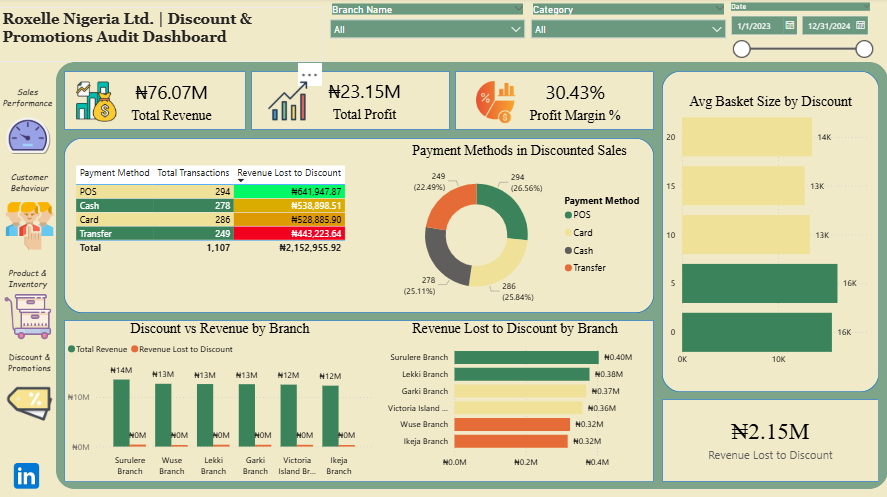

The page's visual inventory and layout, read from the dashboard file:
{"tool":"powerbi","page":{"name":"Discount & Promotions Audit","canvas":[1280,720],"ordinal":3},"visuals":[{"type":"shape","box":[82.1,92.2,1198.1,614.9],"z":0},{"type":"shape","box":[954.7,105.1,312.5,462.2],"z":1000},{"type":"shape","box":[93.6,201.6,849.6,252],"z":2000},{"type":"shape","box":[954.7,577.4,312.5,119.5],"z":3000},{"type":"shape","box":[93.6,463.7,849.6,233.3],"z":4000},{"type":"shape","box":[93.6,105.1,262.1,85],"z":5000},{"type":"slicer","fields":{"Values":["branches.Branch Name"]},"box":[466.6,2.9,301,90.7],"z":6000},{"type":"slicer","fields":{"Values":["date.Date"]},"box":[1041.1,1.4,226.1,92.2],"z":7000},{"type":"slicer","fields":{"Values":["products.Category"]},"box":[756,2.9,301,90.7],"z":8000},{"type":"shape","box":[362.9,105.1,286.6,85],"z":9000},{"type":"shape","box":[656.6,105.1,286.6,85],"z":10000},{"type":"card","title":"Total Revenue","fields":{"Values":["Measure.Total Revenue"]},"box":[141.1,105.1,214.6,85],"z":11000},{"type":"card","title":"Total Profit","fields":{"Values":["Measure.Total Profit"]},"box":[403.2,102.2,246.2,87.8],"z":12000},{"type":"card","title":"Profit Margin","fields":{"Values":["Measure.Profit Margin %"]},"box":[715.7,105.1,227.5,85],"z":13000},{"type":"textbox","box":[0,13,466.6,79.2],"z":14000},{"type":"image","box":[105.1,115.2,70.6,67.7],"z":15000},{"type":"image","box":[365.8,115.2,100.8,66.2],"z":16000},{"type":"image","box":[676.8,112.3,77.8,74.9],"z":17000},{"type":"card","fields":{"Values":["Measure.Revenue Lost to Discount"]},"box":[954.7,567.4,312.5,129.6],"z":18000},{"type":"clusteredColumnChart","title":"Discount vs Revenue by Branch","fields":{"Category":["branches.Branch Name"],"Y":["Measure.Total Revenue","Measure.Revenue Lost to Discount"]},"box":[93.6,463.7,449.3,233.3],"z":19000},{"type":"clusteredBarChart","title":"Revenue Lost to Discount by Branch ","fields":{"Category":["branches.Branch Name"],"Y":["Measure.Revenue Lost to Discount"]},"box":[542.9,463.7,400.3,223.2],"z":20000},{"type":"clusteredBarChart","title":"Avg Basket Size by Discount ","fields":{"Category":["Sales Transactions.Discount %"],"Y":["Measure.Avg Basket Size"]},"box":[954.7,136.8,312.5,401.8],"z":21000},{"type":"tableEx","fields":{"Values":["Sales Transactions.Payment Method","Measure.Total Transactions","Measure.Revenue Lost to Discount"]},"box":[105.1,236.2,450.7,190.1],"z":22000},{"type":"donutChart","title":"Payment Methods in Discounted Sales","fields":{"Category":["Sales Transactions.Payment Method"],"Y":["Measure.Total Transactions"]},"box":[555.8,207.4,387.4,246.2],"z":23000},{"type":"image","title":"Sales Performance","box":[0,126.7,82.1,110.9],"z":23001},{"type":"image","title":"Customer Behaviour","box":[0,249.6,87.8,125.3],"z":23002},{"type":"image","title":"Product & Inventory","box":[0,386.9,82.1,109.4],"z":23003},{"type":"image","title":"Discount & Promotions","box":[0,508.3,87.8,119.5],"z":23004},{"type":"image","box":[10.1,656.6,59,63.4],"z":23005}]}

Visuals, with their boxes in screenshot pixels (x1, y1, x2, y2), scaled from the page's 1280x720 canvas onto the 887x497 screenshot:
shape: bbox(57, 64, 886, 488)
shape: bbox(662, 73, 878, 392)
shape: bbox(65, 139, 654, 313)
shape: bbox(662, 399, 878, 481)
shape: bbox(65, 320, 654, 481)
shape: bbox(65, 73, 246, 131)
slicer - branches.Branch Name: bbox(323, 2, 532, 65)
slicer - date.Date: bbox(721, 1, 878, 65)
slicer - products.Category: bbox(524, 2, 732, 65)
shape: bbox(251, 73, 450, 131)
shape: bbox(455, 73, 654, 131)
"Total Revenue" card: bbox(98, 73, 246, 131)
"Total Profit" card: bbox(279, 71, 450, 131)
"Profit Margin" card: bbox(496, 73, 654, 131)
textbox: bbox(0, 9, 323, 64)
image: bbox(73, 80, 122, 126)
image: bbox(253, 80, 323, 125)
image: bbox(469, 78, 523, 129)
card - Measure.Revenue Lost to Discount: bbox(662, 392, 878, 481)
"Discount vs Revenue by Branch" clusteredColumnChart: bbox(65, 320, 376, 481)
"Revenue Lost to Discount by Branch " clusteredBarChart: bbox(376, 320, 654, 474)
"Avg Basket Size by Discount " clusteredBarChart: bbox(662, 94, 878, 372)
tableEx - Sales Transactions.Payment Method x Measure.Total Transactions: bbox(73, 163, 385, 294)
"Payment Methods in Discounted Sales" donutChart: bbox(385, 143, 654, 313)
"Sales Performance" image: bbox(0, 87, 57, 164)
"Customer Behaviour" image: bbox(0, 172, 61, 259)
"Product & Inventory" image: bbox(0, 267, 57, 343)
"Discount & Promotions" image: bbox(0, 351, 61, 433)
image: bbox(7, 453, 48, 496)
